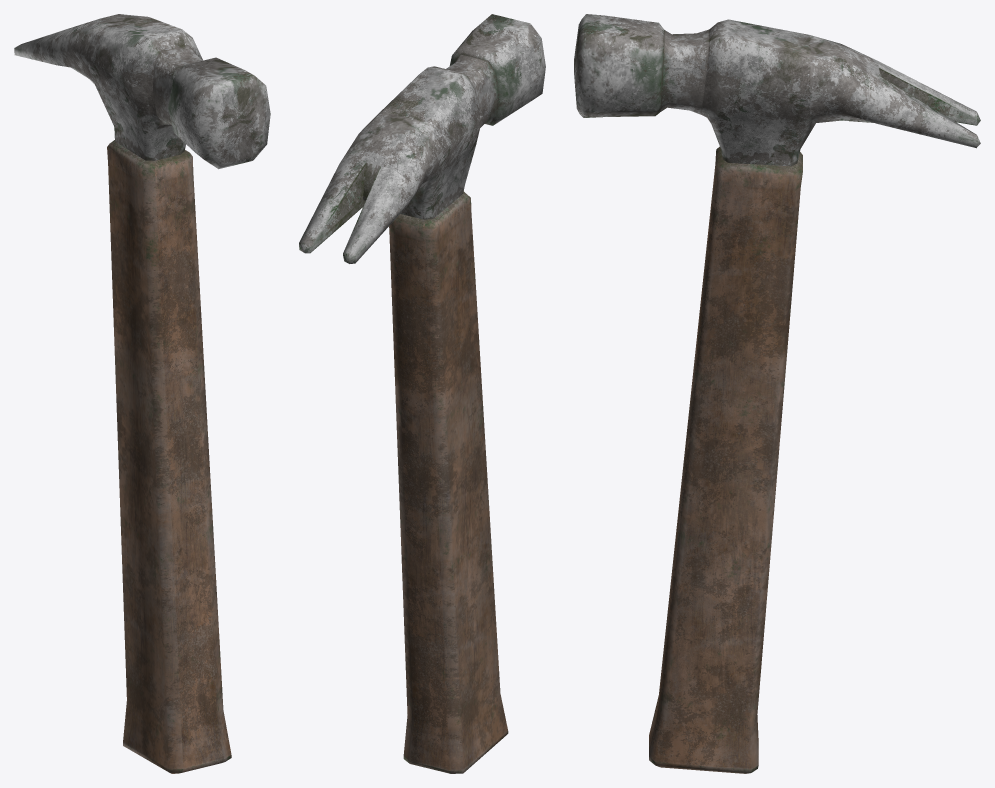
File: Hamer.fbx
3 renders of one model, left to right at view 1: azimuth 30°, elevation 25°; view 2: azimuth 150°, elevation 25°; view 3: azimuth 270°, elevation 25°, orthographic. The views are drawn at different scales.
Visible parts, largest first — view 1: Hamer; view 2: Hamer; view 3: Hamer.
Boxes of the visible parts, x1,y1,x2,y2 form: Hamer: (14,14,270,773); Hamer: (299,14,545,773); Hamer: (574,14,980,773).
Bounding box in the file's own units: 0.023 × 0.199 × 0.0996.
